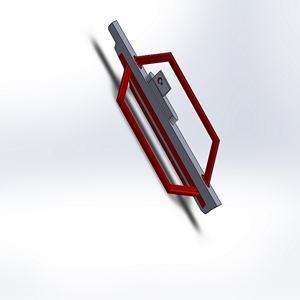submarine: (86, 16, 233, 234)
